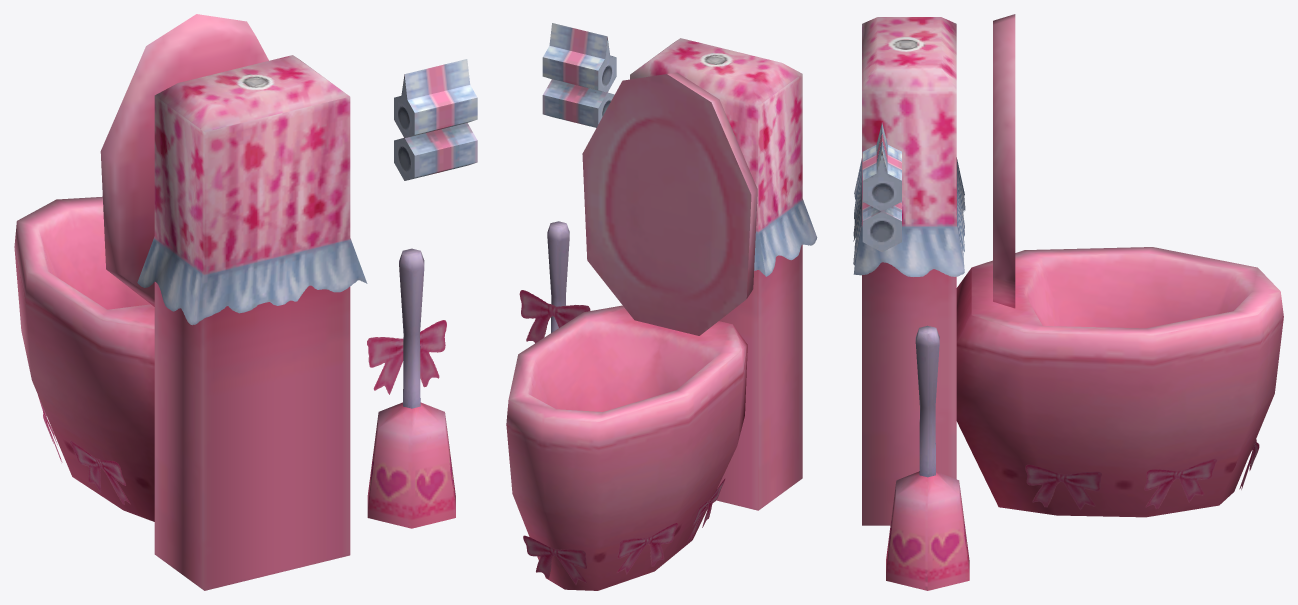
File: furni_0200031.FBX
3 views of the same model, side by side, from view 1: azimuth 30°, elevation 25°; view 2: azimuth 150°, elevation 25°; view 3: azimuth 270°, elevation 25° (orthographic). The views are drawn at different scales.
Visible parts, largest first — view 1: furni_0200031; view 2: furni_0200031; view 3: furni_0200031.
Part boxes in pixels (x1=…): furni_0200031: x1=14, y1=14, x2=477, y2=590; furni_0200031: x1=506, y1=23, x2=817, y2=590; furni_0200031: x1=853, y1=14, x2=1283, y2=590.
Size of the model in its own units: 68.1 by 105 by 86.67.
